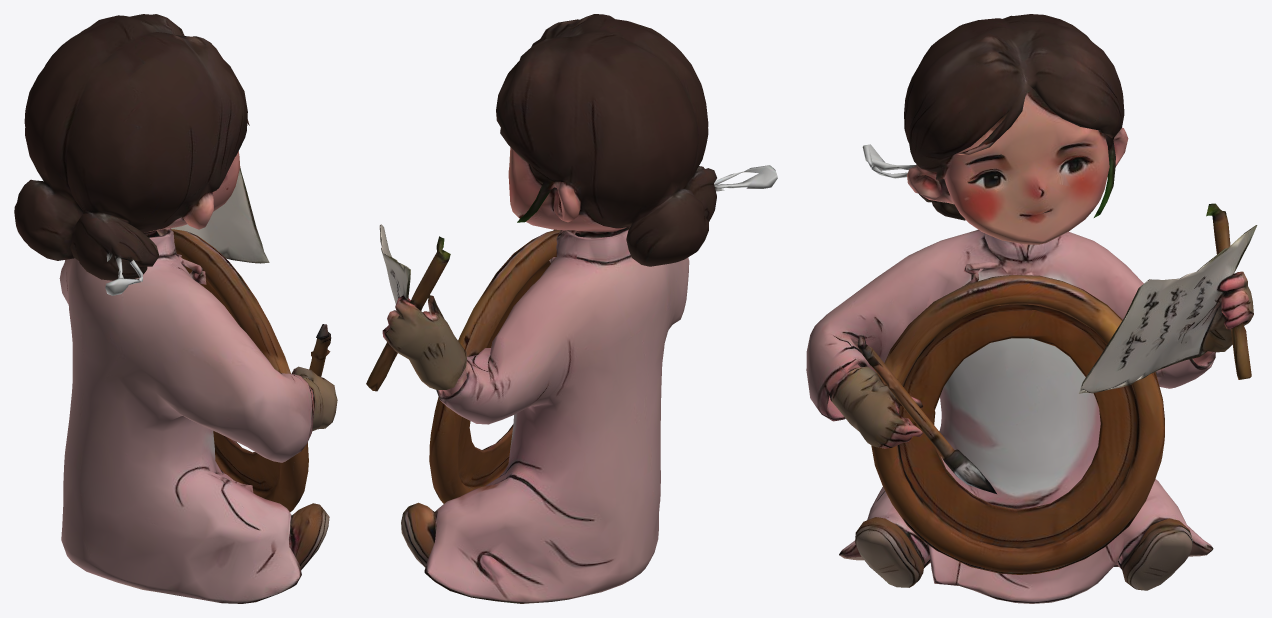
The model's file is n_w16_ming_poet.glb.
3 renders of one model, left to right at view 1: azimuth 30°, elevation 25°; view 2: azimuth 150°, elevation 25°; view 3: azimuth 270°, elevation 25°, orthographic.
Parts seen in each view (by area): view 1: tripo_node_f6625536-cf82-4807-aae8-108308af09d7; view 2: tripo_node_f6625536-cf82-4807-aae8-108308af09d7; view 3: tripo_node_f6625536-cf82-4807-aae8-108308af09d7.
Boxes of the visible parts, left/top/right/bottom form: tripo_node_f6625536-cf82-4807-aae8-108308af09d7: left=14, top=14, right=337, bottom=603; tripo_node_f6625536-cf82-4807-aae8-108308af09d7: left=366, top=14, right=777, bottom=603; tripo_node_f6625536-cf82-4807-aae8-108308af09d7: left=806, top=14, right=1257, bottom=603.
Bounding box in the file's own units: 0.5285 × 1 × 0.7673.
Materials: 1 (1 with a texture image).
